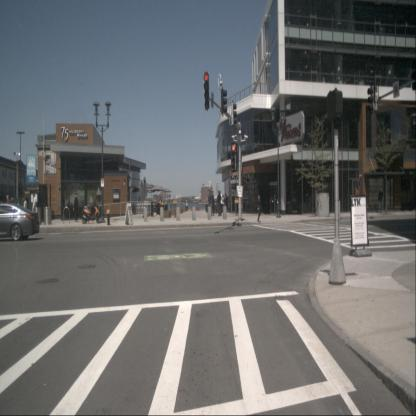human-pedestrian-adult: (72, 194, 80, 223), (378, 188, 384, 213), (32, 192, 37, 220), (208, 190, 213, 216), (217, 190, 222, 216), (23, 197, 28, 222), (6, 194, 11, 218), (257, 195, 261, 223), (212, 190, 216, 214), (224, 193, 228, 212), (355, 187, 359, 197), (186, 200, 188, 212)
vehicle-car: (0, 204, 40, 242)
vehicle-motorcycle: (82, 200, 101, 223)
